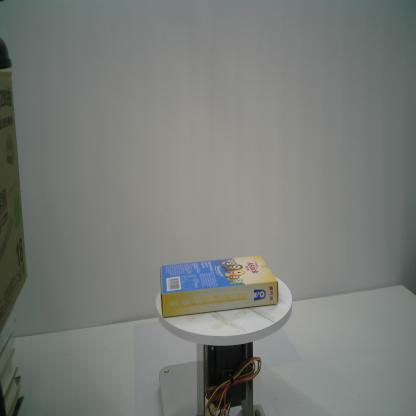Dessert: (158, 253, 280, 320)
